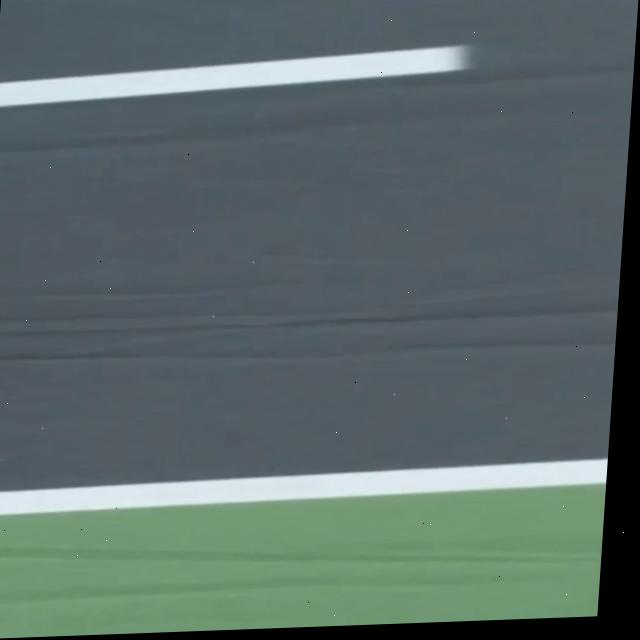center: (0, 46, 467, 106)
right: (0, 458, 608, 515)
